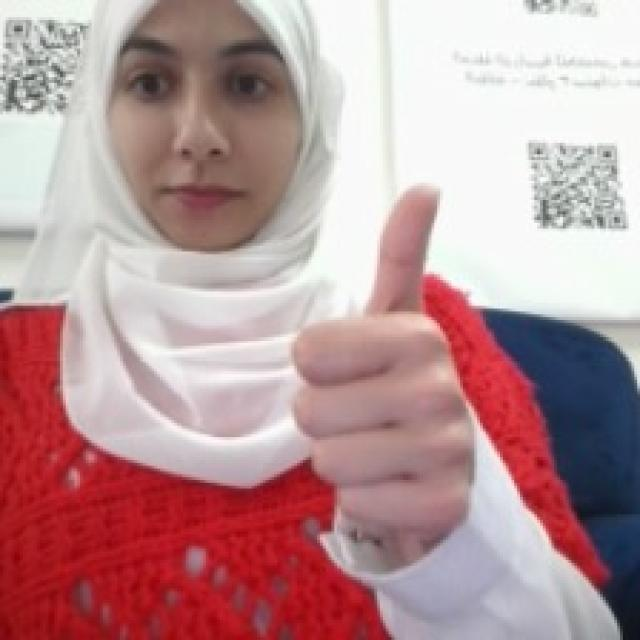fine: (280, 165, 466, 526)
